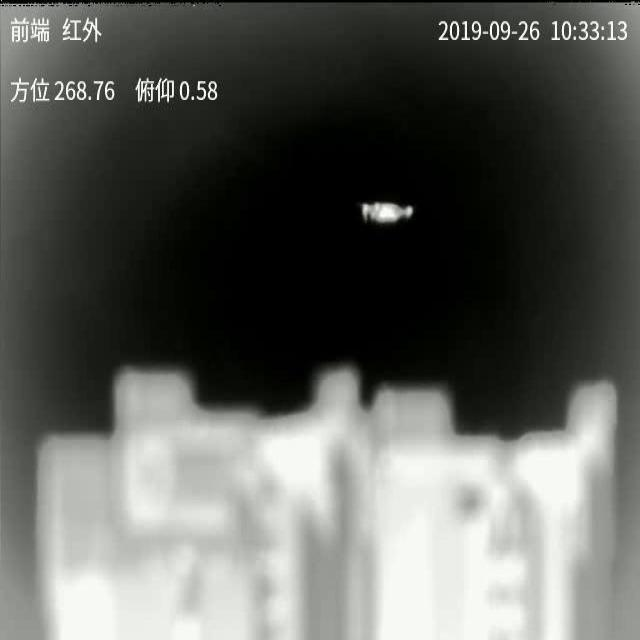drone: (362, 203, 414, 223)
